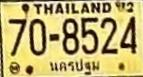0: (29, 18, 46, 55)
2: (100, 16, 116, 53)
4: (119, 15, 136, 53)
5: (80, 16, 98, 53)
7: (8, 18, 26, 55)
8: (62, 17, 78, 54)
NPT: (47, 56, 103, 76)
